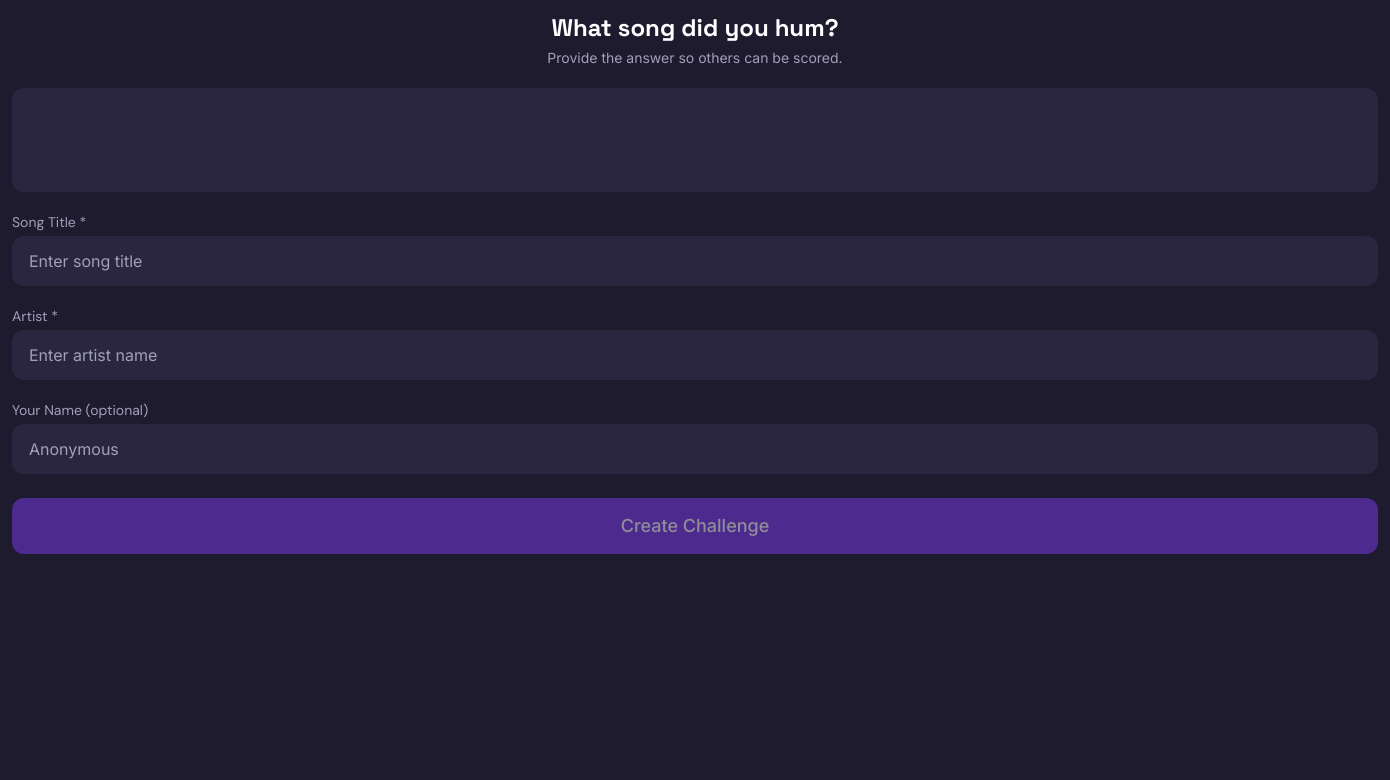
Test case: ChallengeCreationForm — form submission › clears title error when user starts typing
# Trigger validation error first
Submit the form
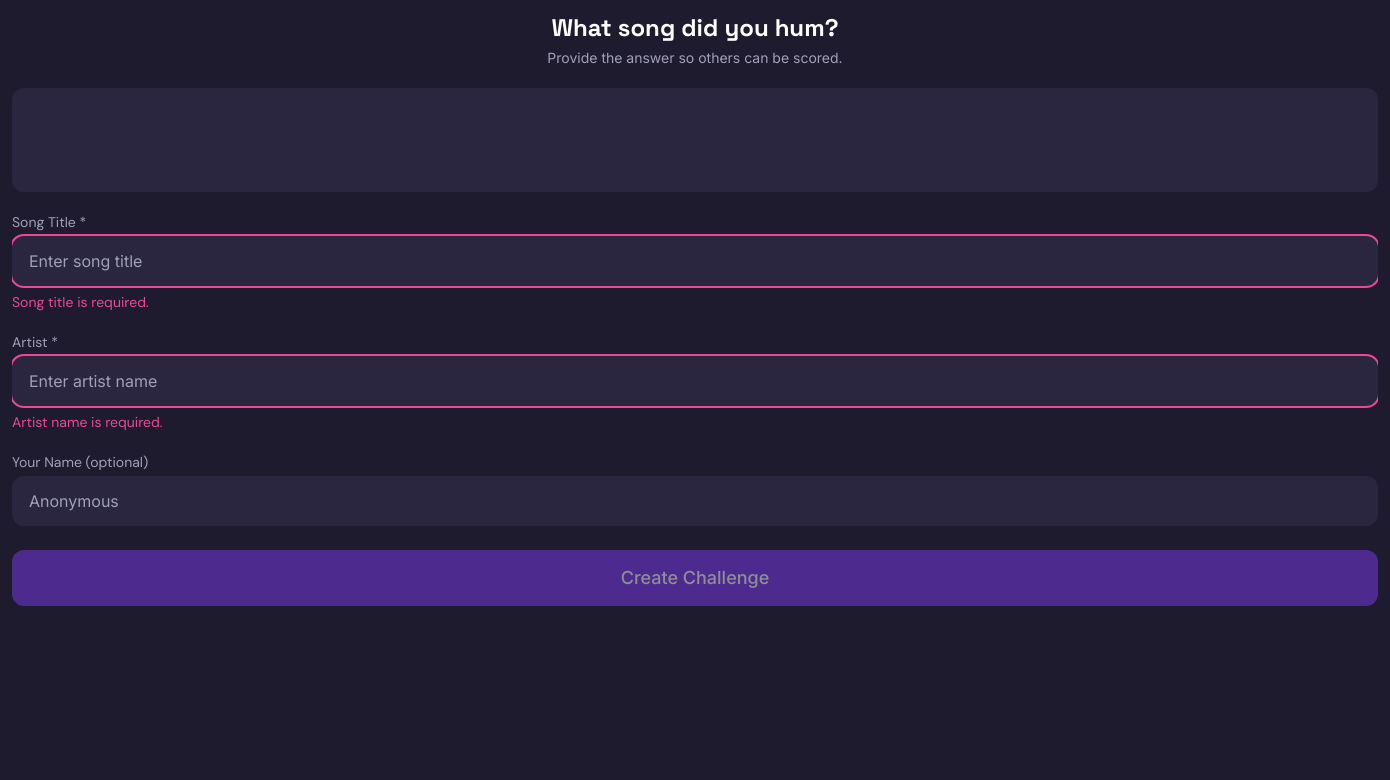
Result: the text "Song title is required." is shown at top-left (12, 293), bottom-right (149, 311)
# Start typing in title field
Type "H" into the field labelled "Song Title *".
click(695, 261); type("H")  # box top-left (12, 236), bottom-right (1378, 286)
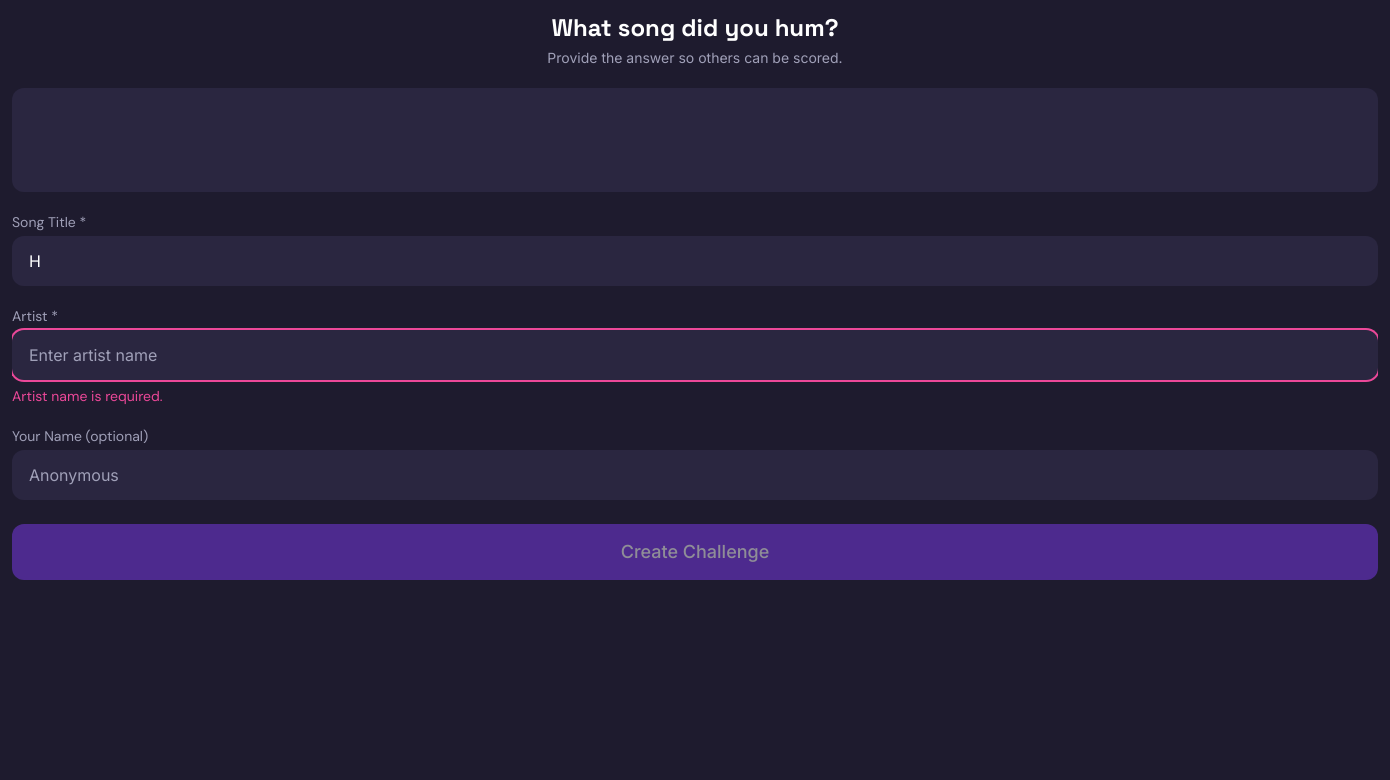
Result: the text "Song title is required" is gone
